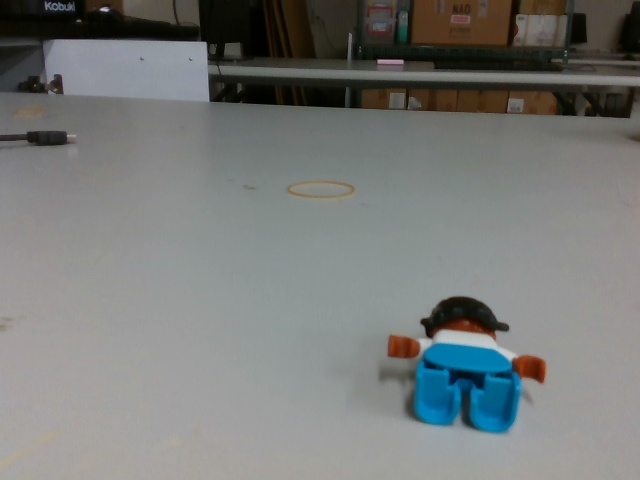people: (386, 292, 550, 436)
